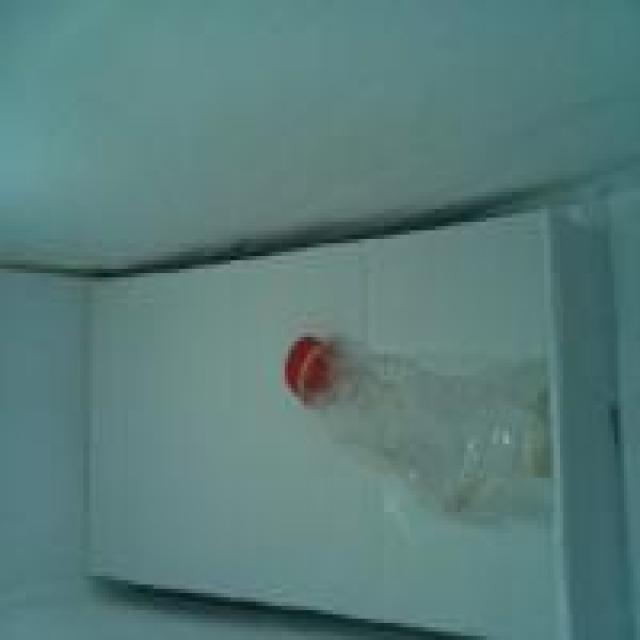bottle: (277, 330, 552, 525)
